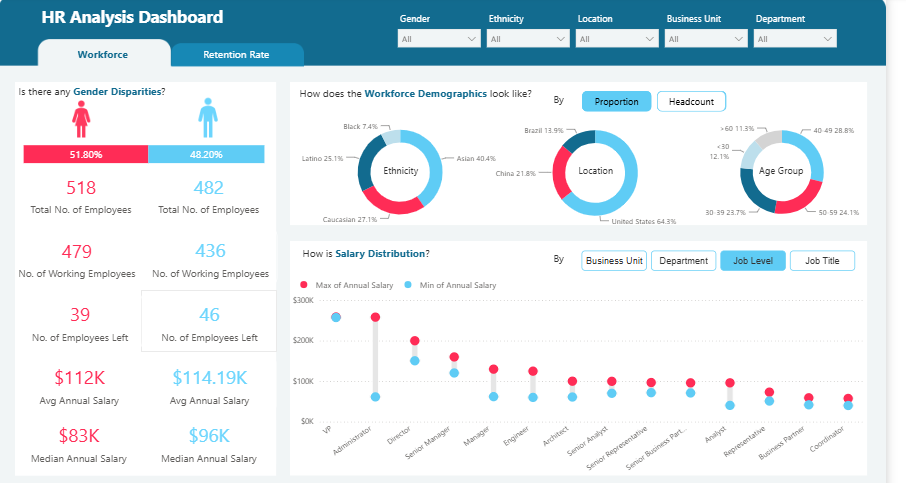

What the dashboard file says about the page in this screenshot:
{"tool":"powerbi","page":{"name":"Workforce","canvas":[1280,720],"ordinal":0},"visuals":[{"type":"shape","box":[420.8,122.9,831.2,206.1],"z":0},{"type":"donutChart","fields":{"Category":["FACT_Employees.Ethnicity"],"Y":["Measure.Emp"]},"box":[429.4,167,299.9,170.2],"z":0,"group":"g3"},{"type":"donutChart","fields":{"Category":["FACT_Employees.Age Group"],"Y":["Measure.Emp"]},"box":[994.4,167,267.8,170.2],"z":0,"group":"g2"},{"type":"donutChart","fields":{"Category":["FACT_Employees.Country"],"Y":["Measure.Emp"]},"box":[694,168.2,331.7,169.7],"z":0,"group":"g1"},{"type":"textbox","box":[806.4,236.2,109.1,37.5],"z":1000,"group":"g1"},{"type":"textbox","box":[1072.5,236.2,110.2,37.7],"z":1000,"group":"g2"},{"type":"textbox","box":[526.5,236.3,109.1,37.5],"z":1000,"group":"g3"},{"type":"shape","box":[420.8,351.5,831.2,337.7],"z":1000},{"type":"shape","box":[25.1,122.7,376.2,567.3],"z":2000},{"type":"textbox","box":[57.2,5.6,344.5,58.6],"z":3000},{"type":"hundredPercentStackedBarChart","fields":{"Series":["FACT_Employees.Gender"],"Y":["Measure.No. of Employee"]},"box":[25.2,160.1,366.7,124.8],"z":4000},{"type":"card","fields":{"Values":["Measure.No. of Employee"]},"box":[206.2,239.4,195.1,89.5],"z":5000},{"type":"card","fields":{"Values":["Measure.No. of Employee"]},"box":[207,330.4,195.3,89.3],"z":6000},{"type":"card","fields":{"Values":["Measure.Emp"]},"box":[206.2,421.4,195.1,89.5],"z":7000},{"type":"card","fields":{"Values":["Avg(FACT_Employees.Annual Salary)"]},"box":[206.2,511.9,195.1,89.5],"z":8000},{"type":"card","fields":{"Values":["Measure.No. of Employee"]},"box":[26.2,239.4,187.1,89.5],"z":9000},{"type":"card","fields":{"Values":["Measure.No. of Employee"]},"box":[15.1,330.9,198.1,89.5],"z":10000},{"type":"card","fields":{"Values":["Measure.Emp"]},"box":[26.2,421.4,182,89.5],"z":11000},{"type":"card","fields":{"Values":["Avg(FACT_Employees.Annual Salary)"]},"box":[26.2,511.9,180,89.5],"z":12000},{"type":"card","fields":{"Values":["Median(FACT_Employees.Annual Salary)"]},"box":[205.2,596.4,196.1,89.5],"z":13000},{"type":"card","fields":{"Values":["Median(FACT_Employees.Annual Salary)"]},"box":[24.1,596.4,181,89.5],"z":14000},{"type":"lineChart","title":"Max and Min of Annual Salary by Job Level","fields":{"Category":["Job Level.Job Level"],"Y":["Max(FACT_Employees.Annual Salary)","Min(FACT_Employees.Annual Salary)"]},"box":[419.1,394.8,832.9,303],"z":15000},{"type":"slicer","fields":{"Values":["FACT_Employees.Gender"]},"box":[566.2,16.7,138.6,71.8],"z":16000},{"type":"slicer","fields":{"Values":["FACT_Employees.Ethnicity"]},"box":[694.8,16.7,138.6,71.8],"z":17000},{"type":"slicer","fields":{"Values":["FACT_Employees.Country","FACT_Employees.City"]},"box":[822.1,16.7,138.6,71.8],"z":18000},{"type":"slicer","fields":{"Values":["FACT_Employees.Business Unit"]},"box":[950.6,16.7,138.6,71.8],"z":19000},{"type":"slicer","fields":{"Values":["FACT_Employees.Department"]},"box":[1077.9,16.7,138.6,71.8],"z":20000},{"type":"ChicletSlicer1448559807354","fields":{"Category":["Parameter.Parameter"]},"box":[832.9,357.3,410.8,59.2],"z":21000},{"type":"actionButton","box":[101.1,62.2,99.9,40],"z":22000},{"type":"actionButton","box":[264.3,62.2,156.6,40],"z":23000},{"type":"textbox","box":[429.6,122.7,411.5,40.5],"z":24000},{"type":"textbox","box":[25.1,120,239.9,40.5],"z":25000},{"type":"textbox","box":[433.7,352.7,411.5,40.5],"z":26000},{"type":"textbox","box":[794.9,362.1,42.5,32.5],"z":27000},{"type":"image","box":[86,140.7,67.4,68.6],"z":28000},{"type":"group","id":"g1","title":"Group 1","box":[694,168.2,331.7,169.7],"z":29000},{"type":"group","id":"g2","title":"Group 2","box":[994.4,167,267.8,170.2],"z":30000},{"type":"group","id":"g3","title":"Group 3","box":[429.4,167,299.9,170.2],"z":31000},{"type":"shape","box":[948.7,135,100.2,29.2],"z":35000},{"type":"shape","box":[841.6,135,100.2,29.2],"z":36000},{"type":"textbox","box":[795.1,132.2,41.7,32],"z":37000},{"type":"shape","box":[841.2,135.2,100.1,29.7],"z":38000},{"type":"shape","box":[948.9,135.2,99,29.7],"z":39000},{"type":"image","box":[264.9,138.5,74.5,71],"z":40000}]}

Visuals, with their boxes on the page's 1280x720 design canvas (x1, y1, x2, y2). These are canvas units, not pixel positions in the 906x483 screenshot, which may show the page scaled, cropped or inside an application window:
shape: {"left": 421, "top": 123, "right": 1252, "bottom": 329}
donutChart - FACT_Employees.Ethnicity x Measure.Emp: {"left": 429, "top": 167, "right": 729, "bottom": 337}
donutChart - FACT_Employees.Age Group x Measure.Emp: {"left": 994, "top": 167, "right": 1262, "bottom": 337}
donutChart - FACT_Employees.Country x Measure.Emp: {"left": 694, "top": 168, "right": 1026, "bottom": 338}
textbox: {"left": 806, "top": 236, "right": 916, "bottom": 274}
textbox: {"left": 1072, "top": 236, "right": 1183, "bottom": 274}
textbox: {"left": 526, "top": 236, "right": 636, "bottom": 274}
shape: {"left": 421, "top": 352, "right": 1252, "bottom": 689}
shape: {"left": 25, "top": 123, "right": 401, "bottom": 690}
textbox: {"left": 57, "top": 6, "right": 402, "bottom": 64}
hundredPercentStackedBarChart - FACT_Employees.Gender x Measure.No. of Employee: {"left": 25, "top": 160, "right": 392, "bottom": 285}
card - Measure.No. of Employee: {"left": 206, "top": 239, "right": 401, "bottom": 329}
card - Measure.No. of Employee: {"left": 207, "top": 330, "right": 402, "bottom": 420}
card - Measure.Emp: {"left": 206, "top": 421, "right": 401, "bottom": 511}
card - Avg(FACT_Employees.Annual Salary): {"left": 206, "top": 512, "right": 401, "bottom": 601}
card - Measure.No. of Employee: {"left": 26, "top": 239, "right": 213, "bottom": 329}
card - Measure.No. of Employee: {"left": 15, "top": 331, "right": 213, "bottom": 420}
card - Measure.Emp: {"left": 26, "top": 421, "right": 208, "bottom": 511}
card - Avg(FACT_Employees.Annual Salary): {"left": 26, "top": 512, "right": 206, "bottom": 601}
card - Median(FACT_Employees.Annual Salary): {"left": 205, "top": 596, "right": 401, "bottom": 686}
card - Median(FACT_Employees.Annual Salary): {"left": 24, "top": 596, "right": 205, "bottom": 686}
"Max and Min of Annual Salary by Job Level" lineChart: {"left": 419, "top": 395, "right": 1252, "bottom": 698}
slicer - FACT_Employees.Gender: {"left": 566, "top": 17, "right": 705, "bottom": 88}
slicer - FACT_Employees.Ethnicity: {"left": 695, "top": 17, "right": 833, "bottom": 88}
slicer - FACT_Employees.Country x FACT_Employees.City: {"left": 822, "top": 17, "right": 961, "bottom": 88}
slicer - FACT_Employees.Business Unit: {"left": 951, "top": 17, "right": 1089, "bottom": 88}
slicer - FACT_Employees.Department: {"left": 1078, "top": 17, "right": 1216, "bottom": 88}
ChicletSlicer1448559807354 - Parameter.Parameter: {"left": 833, "top": 357, "right": 1244, "bottom": 416}
actionButton: {"left": 101, "top": 62, "right": 201, "bottom": 102}
actionButton: {"left": 264, "top": 62, "right": 421, "bottom": 102}
textbox: {"left": 430, "top": 123, "right": 841, "bottom": 163}
textbox: {"left": 25, "top": 120, "right": 265, "bottom": 160}
textbox: {"left": 434, "top": 353, "right": 845, "bottom": 393}
textbox: {"left": 795, "top": 362, "right": 837, "bottom": 395}
image: {"left": 86, "top": 141, "right": 153, "bottom": 209}
"Group 1" group: {"left": 694, "top": 168, "right": 1026, "bottom": 338}
"Group 2" group: {"left": 994, "top": 167, "right": 1262, "bottom": 337}
"Group 3" group: {"left": 429, "top": 167, "right": 729, "bottom": 337}
shape: {"left": 949, "top": 135, "right": 1049, "bottom": 164}
shape: {"left": 842, "top": 135, "right": 942, "bottom": 164}
textbox: {"left": 795, "top": 132, "right": 837, "bottom": 164}
shape: {"left": 841, "top": 135, "right": 941, "bottom": 165}
shape: {"left": 949, "top": 135, "right": 1048, "bottom": 165}
image: {"left": 265, "top": 138, "right": 339, "bottom": 210}
